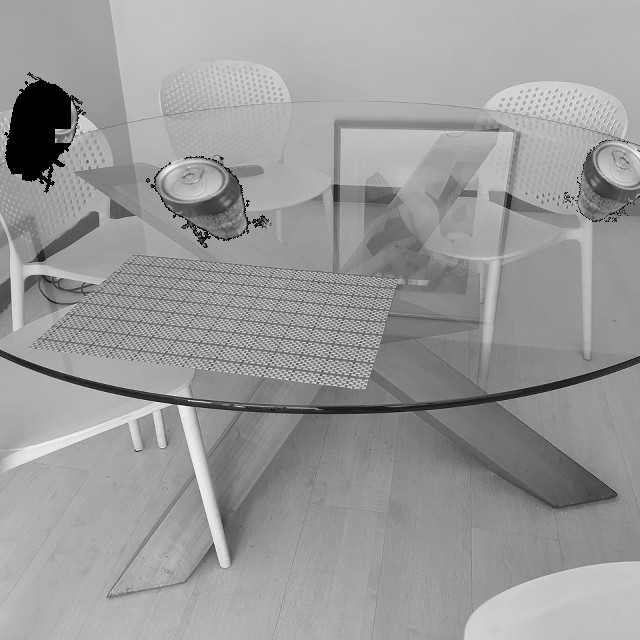coca cola: (141, 129, 272, 269), (564, 139, 640, 222)
sprite: (0, 68, 103, 197)
